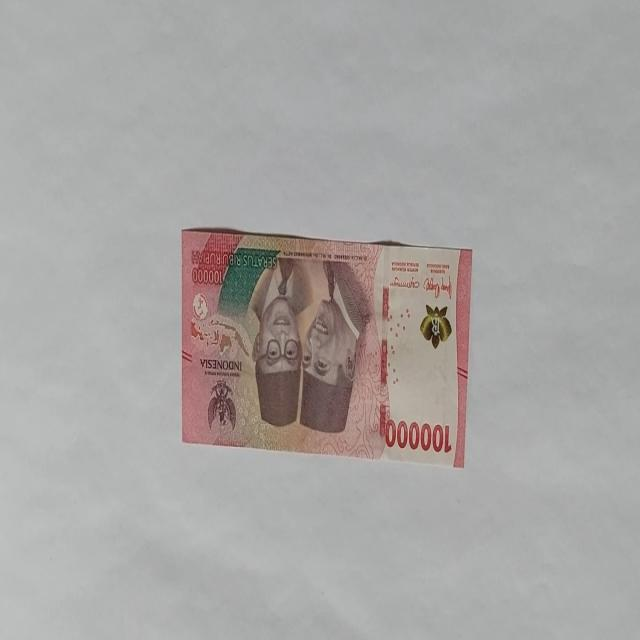seratus ribu rupiah: (180, 226, 472, 467)
